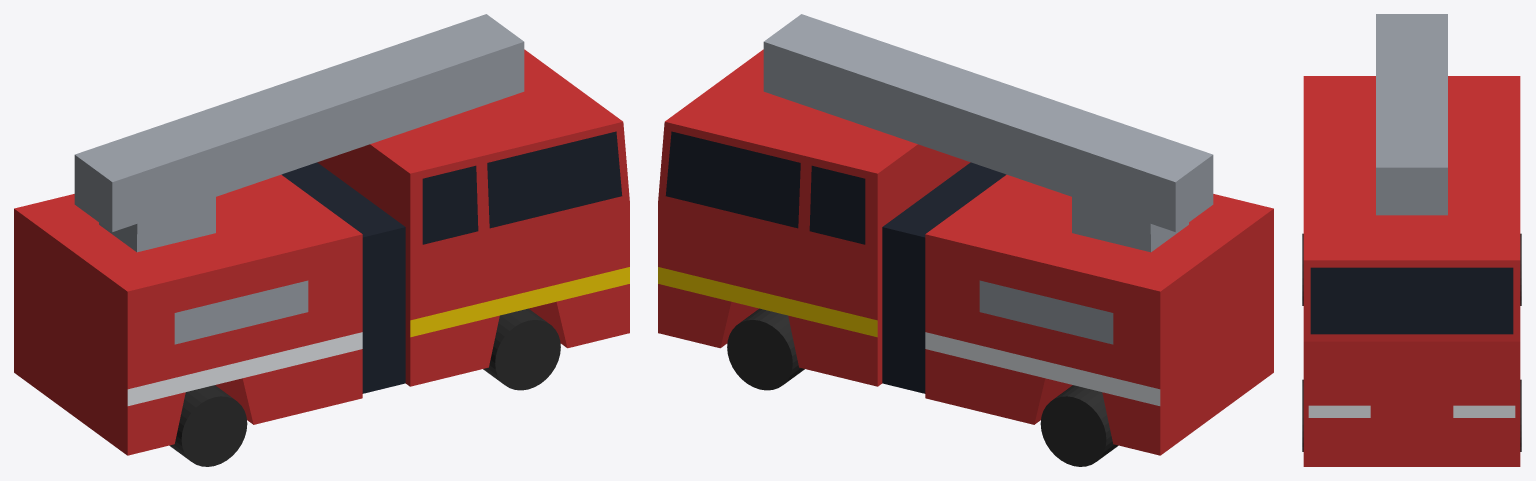
The model's file is carfirefighter.glb.
The picture shows the model from 3 angles, left to right: view 1: azimuth 30°, elevation 25°; view 2: azimuth 150°, elevation 25°; view 3: azimuth 270°, elevation 25°; orthographic projection. The views are drawn at different scales.
Parts seen in each view (by area): view 1: car_firefighter; view 2: car_firefighter; view 3: car_firefighter.
Part boxes in pixels (x1,y1,x2,y2): car_firefighter: [14, 14, 629, 466]; car_firefighter: [658, 14, 1273, 466]; car_firefighter: [1302, 14, 1521, 466].
Bounding box in the file's own units: 6.4 × 3.79 × 2.53.
